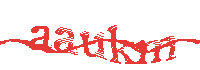a: (54, 27, 74, 53), (31, 26, 49, 51)
k: (107, 24, 134, 65)
m: (137, 36, 177, 64)
u: (81, 30, 107, 61)
